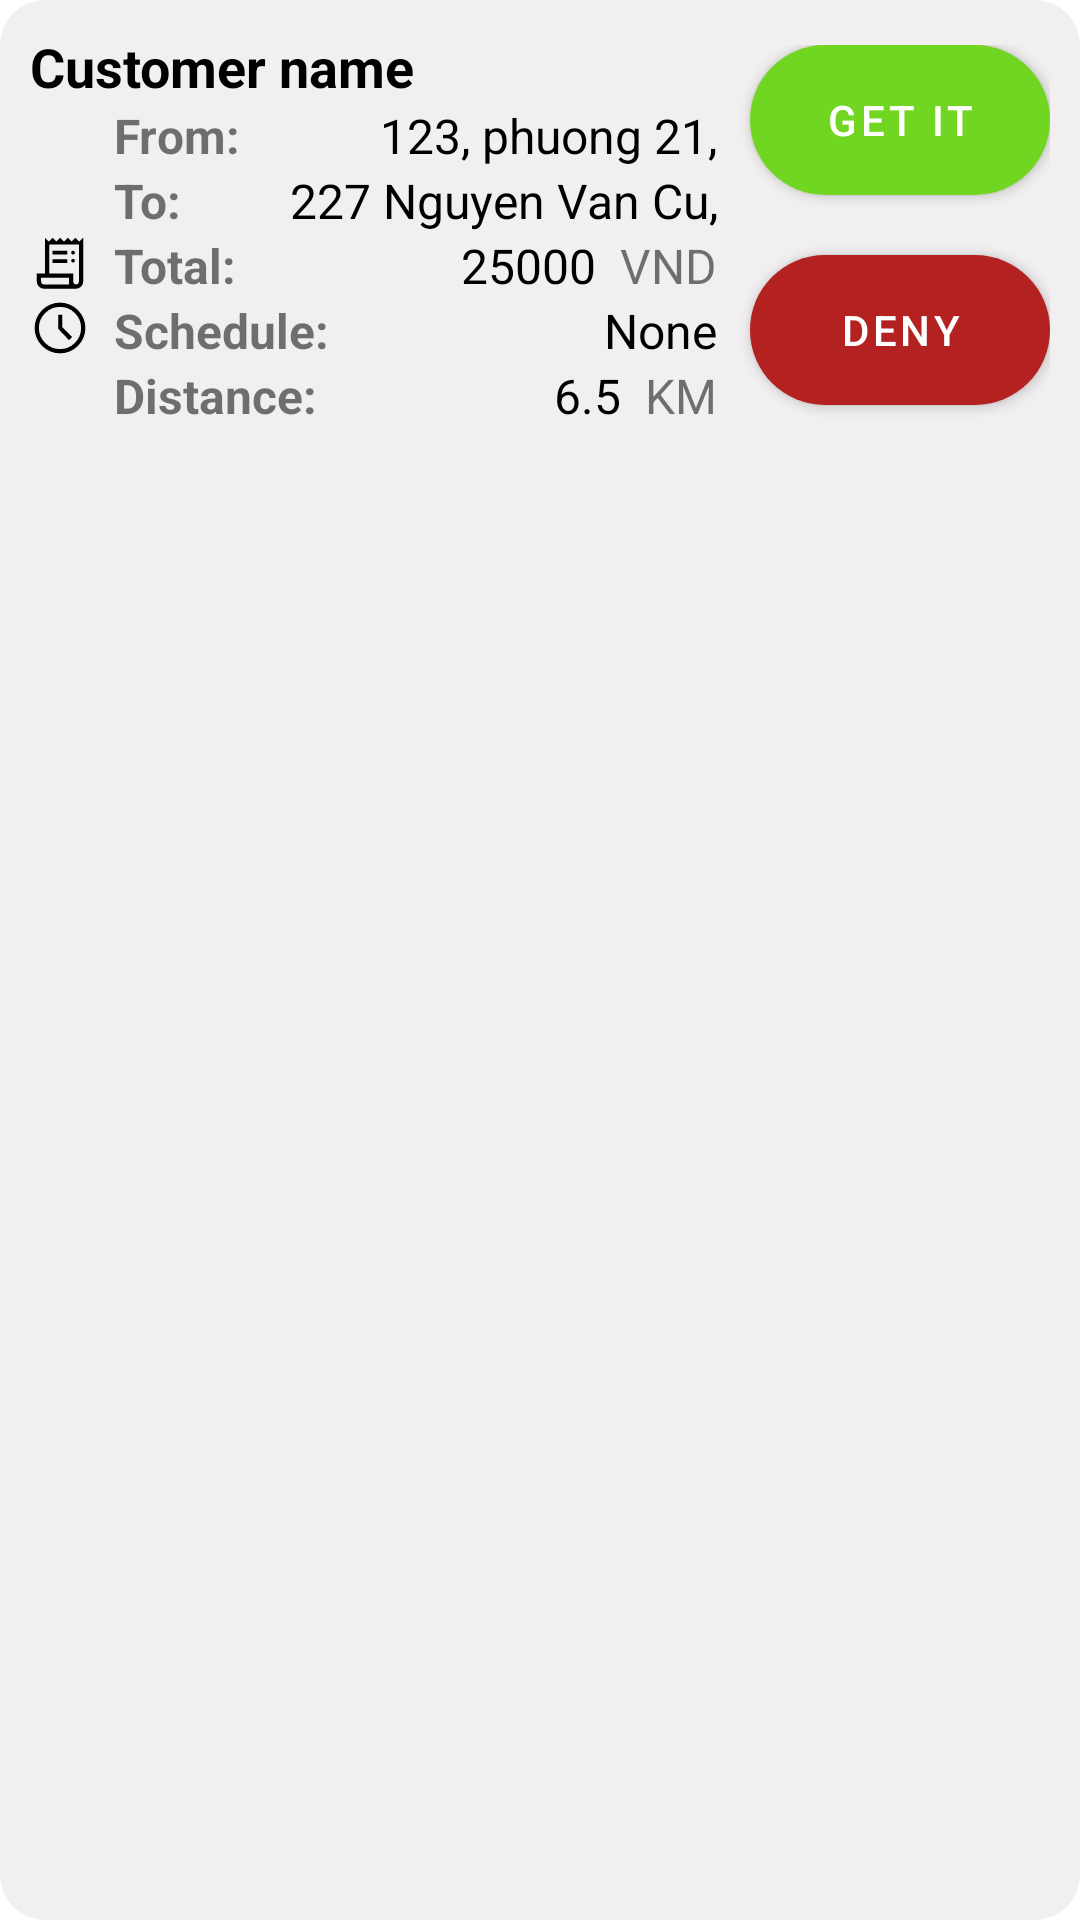

Icon bounding boxes for this 1080x1920 phone screenshot, format {"left": x1, "top": y1, "right": x2, "bottom": y2}:
receipt long: {"left": 36, "top": 238, "right": 84, "bottom": 289}
